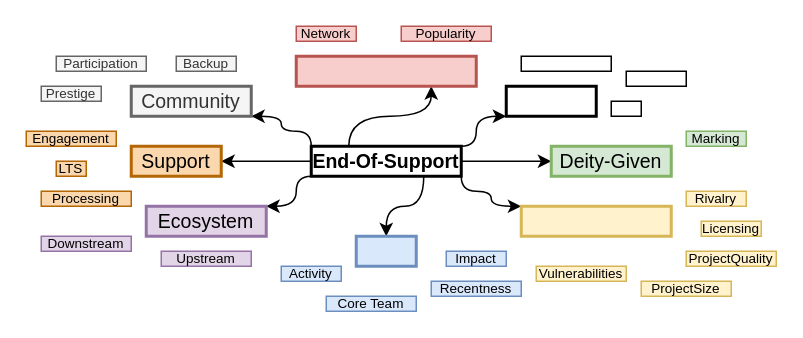
Some shapes in this 803 by 338 pixel diagram are drawn without their labels. Each missing label, with the centre of its shape:
"Circumstances" belongs at point (595, 220).
"Effort" belongs at point (385, 250).
"Interconnectedness" belongs at point (385, 70).
